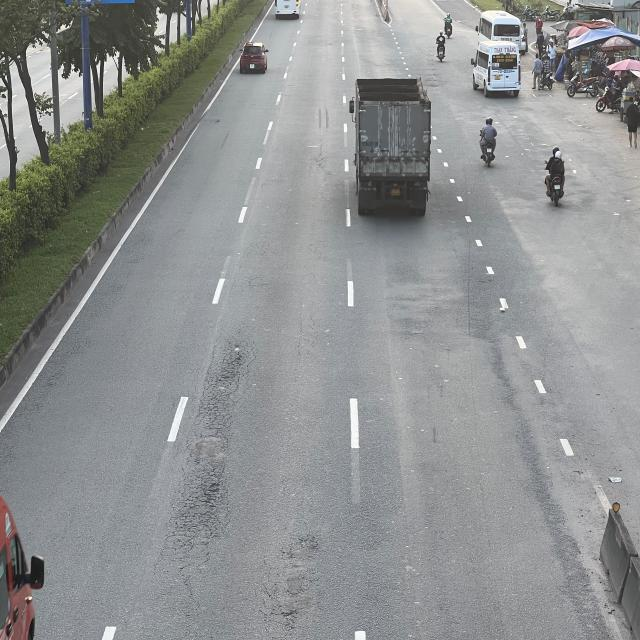car: (240, 40, 268, 72)
truck: (351, 77, 432, 217)
van: (470, 38, 521, 94)
